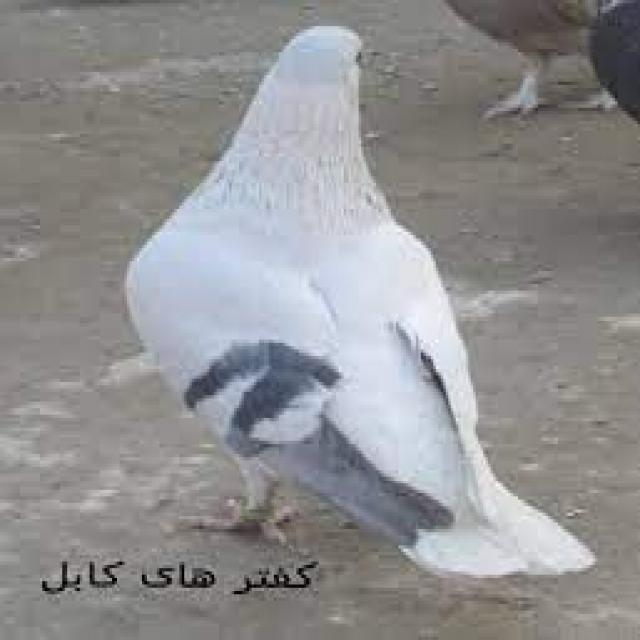bird: (124, 20, 599, 582)
